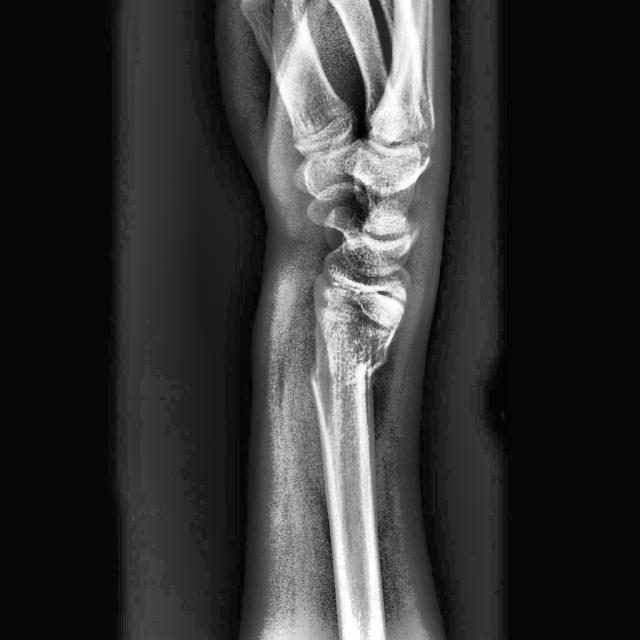angle: (306, 365, 374, 392)
